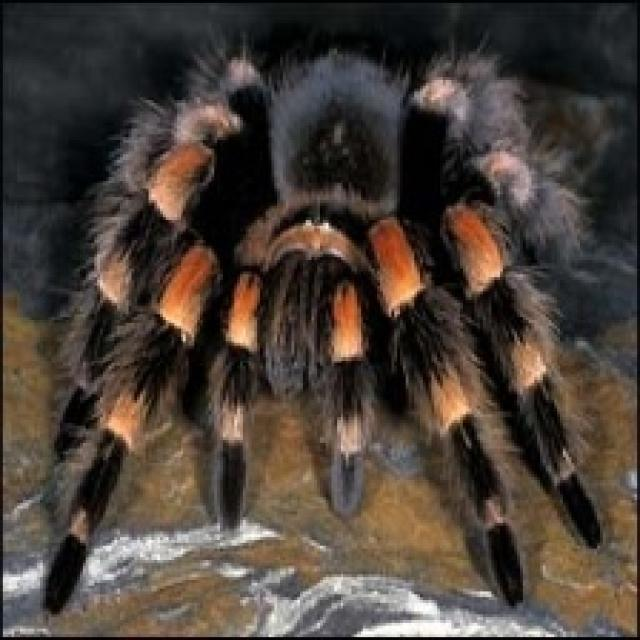Non venomous spider: (97, 139, 525, 457)
